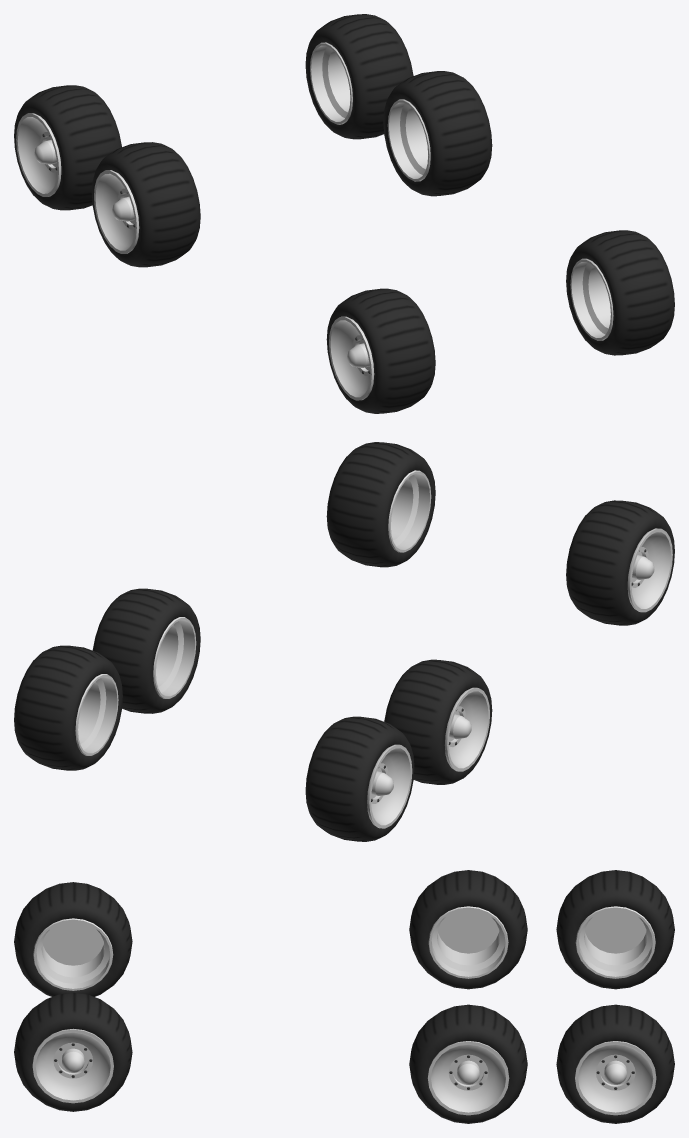
Rendered from test_tire1.obj.
3 views of the same model, one above another, from view 1: azimuth 30°, elevation 25°; view 2: azimuth 150°, elevation 25°; view 3: azimuth 270°, elevation 25° (orthographic). The views are drawn at different scales.
Parts seen in each view (by area): view 1: test_tire1; view 2: test_tire1; view 3: test_tire1.
Boxes of the visible parts, left/top/right/bottom form: test_tire1: left=14, top=14, right=674, bottom=413; test_tire1: left=14, top=442, right=674, bottom=841; test_tire1: left=14, top=870, right=674, bottom=1123.
Bounding box in the file's own units: 2.93 × 0.8933 × 4.98.
1 material, 1 textured.
